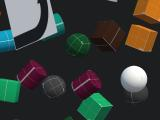Left: (5, 0, 58, 50)
